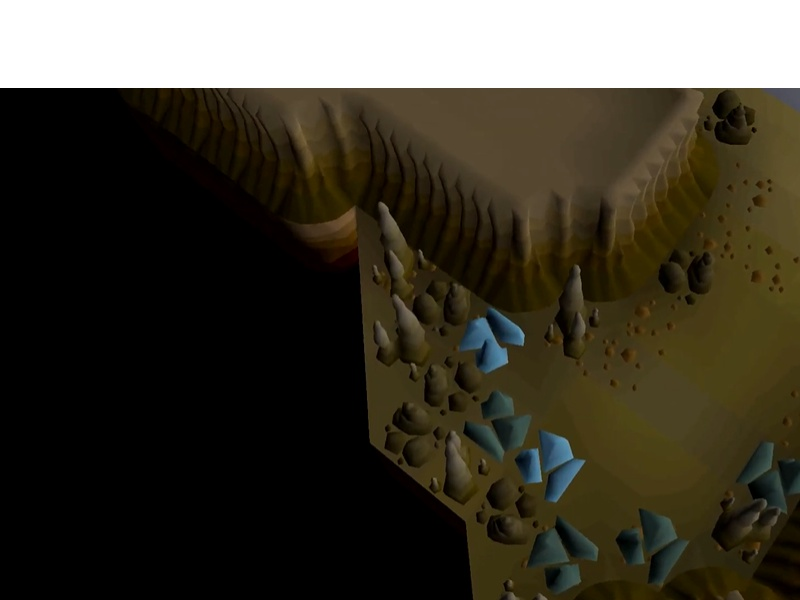adamant: (612, 504, 693, 587), (524, 512, 603, 596), (460, 385, 534, 467), (733, 437, 800, 517)
rune: (512, 426, 589, 506), (456, 304, 529, 376)
